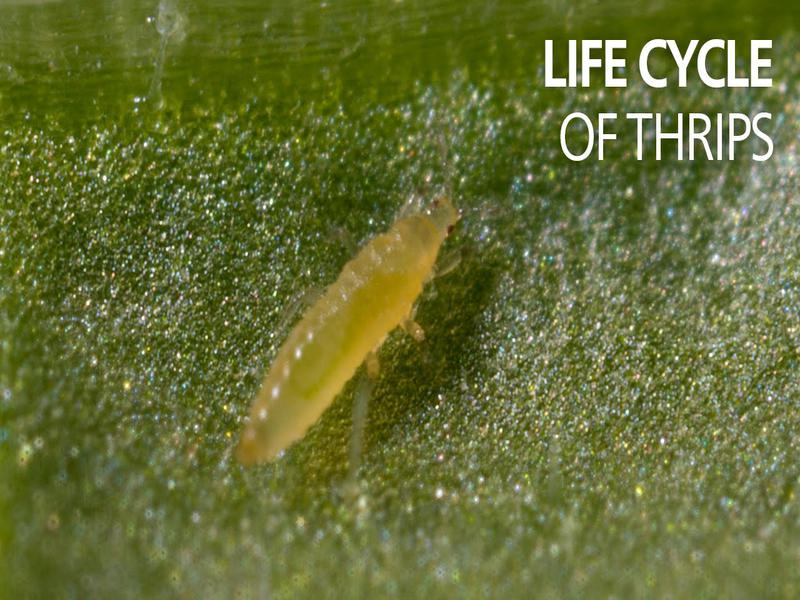Thrips: (230, 186, 473, 478)
